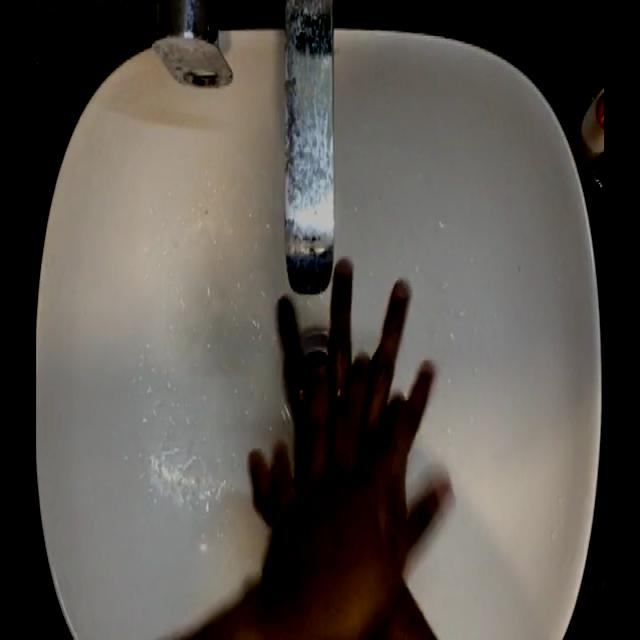step_2: (242, 238, 446, 542)
